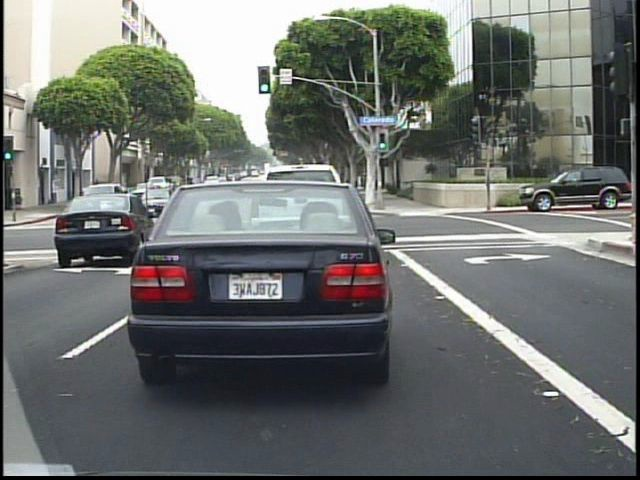person: (87, 174, 105, 210)
